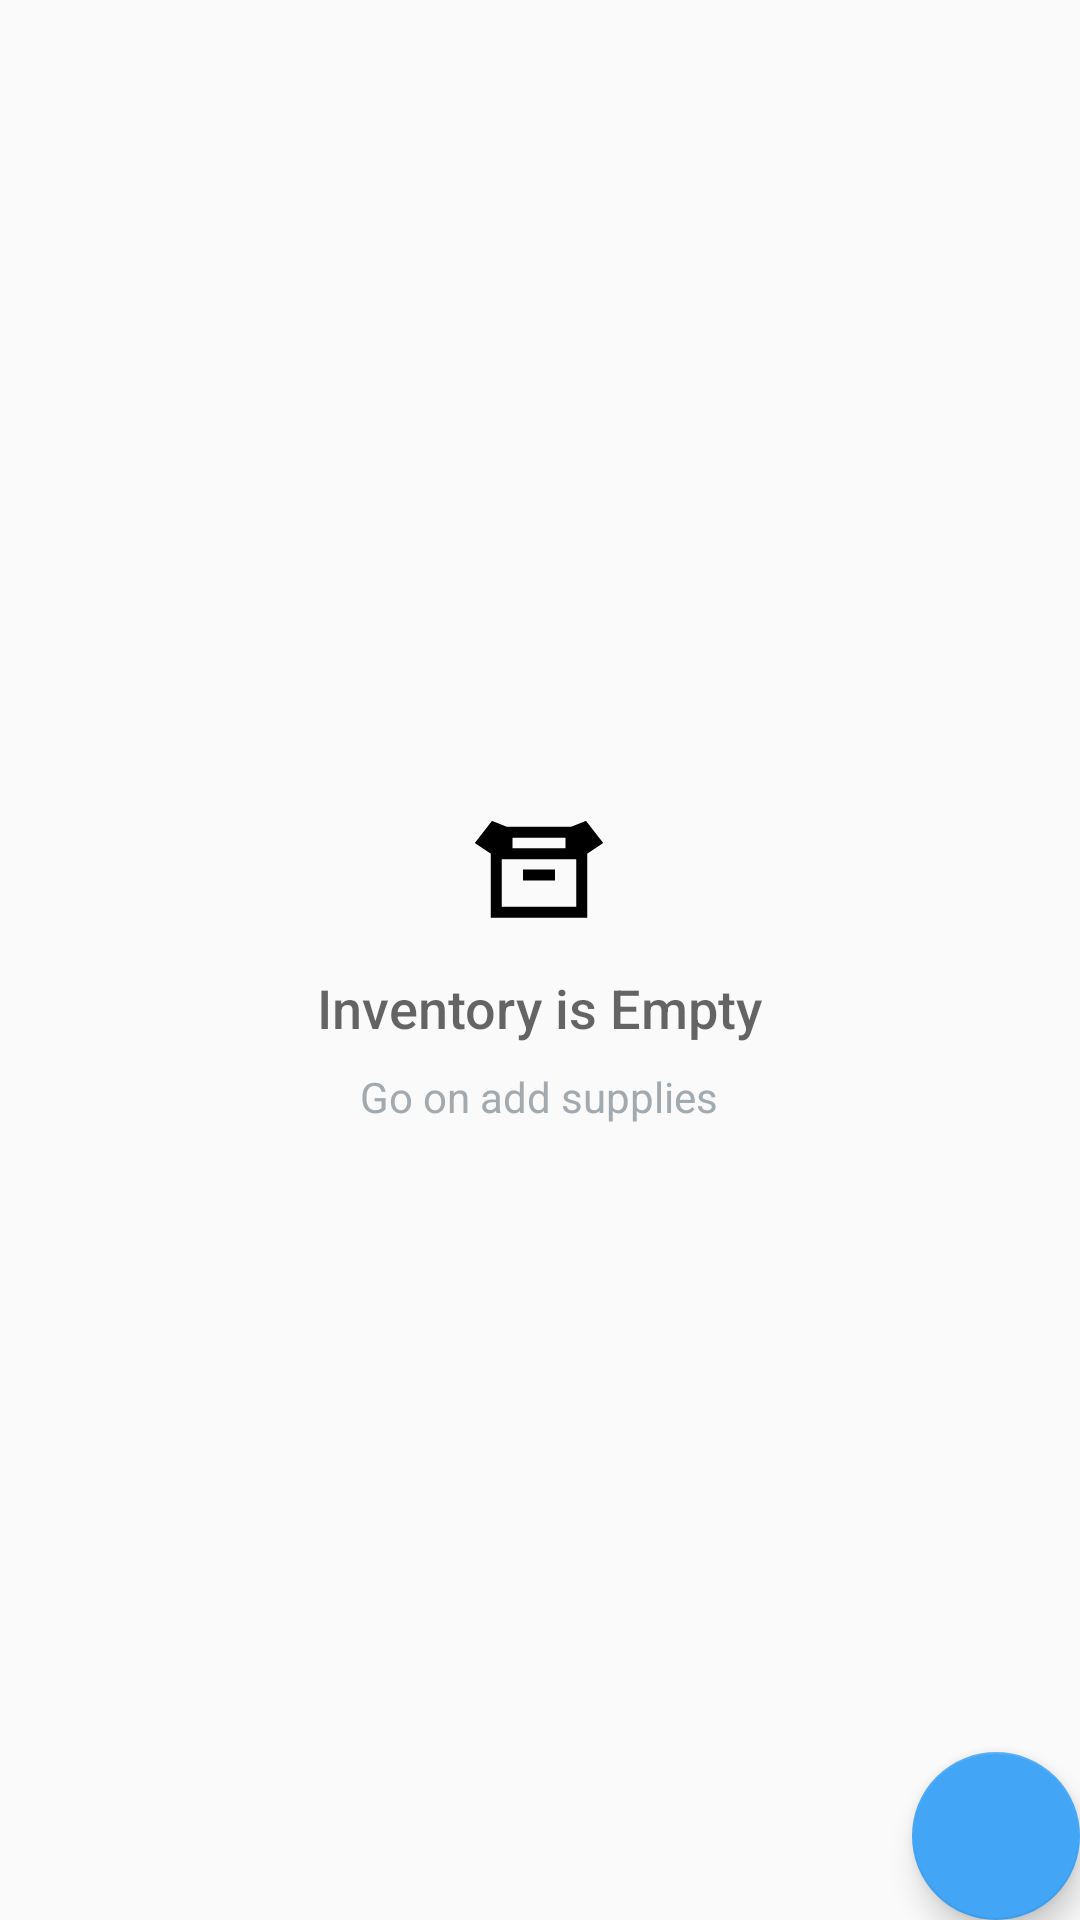

Named icons in this screenshot (1080x1920) and their bounding boxes, (x1, y1, x2, y2):
shopping empty box: (475, 821, 603, 918)
